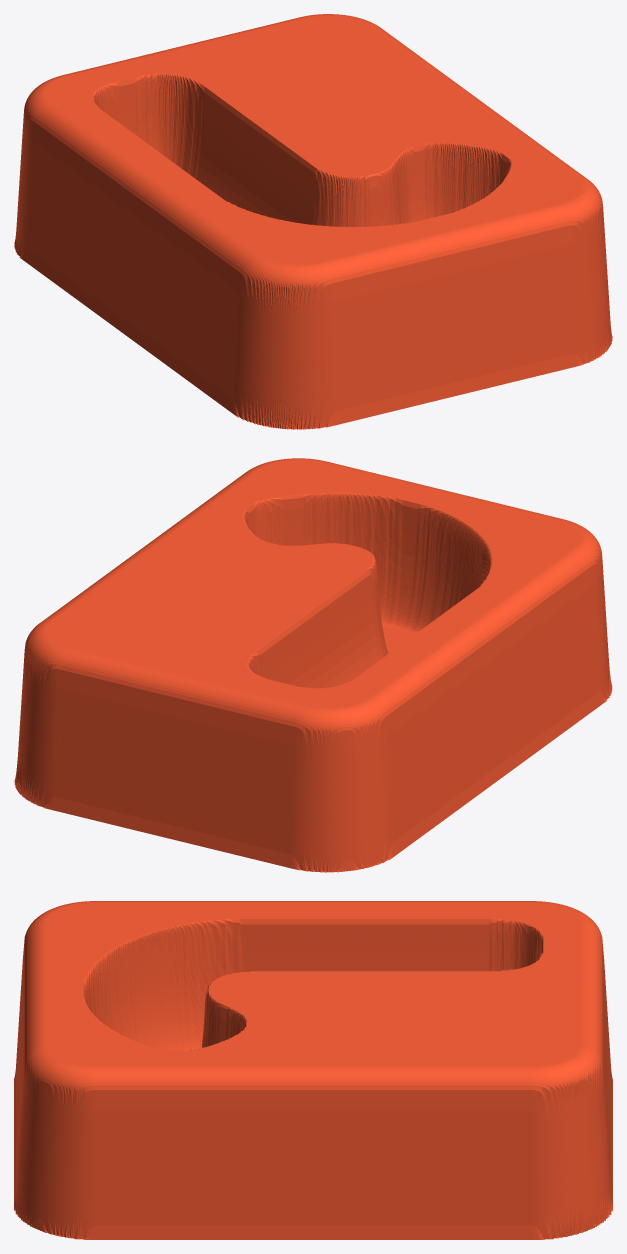
Rendered from mold.glb.
The picture shows the model from 3 angles, top to bottom: view 1: azimuth 30°, elevation 25°; view 2: azimuth 150°, elevation 25°; view 3: azimuth 270°, elevation 25°; orthographic projection. The views are drawn at different scales.
Visible parts, largest first — view 1: geometry_0; view 2: geometry_0; view 3: geometry_0.
Boxes of the visible parts, left/top/right/bottom form: geometry_0: left=14, top=14, right=612, bottom=429; geometry_0: left=14, top=458, right=612, bottom=872; geometry_0: left=14, top=901, right=612, bottom=1239.
Size of the model in its own units: 0.0504 by 0.0197 by 0.067.
